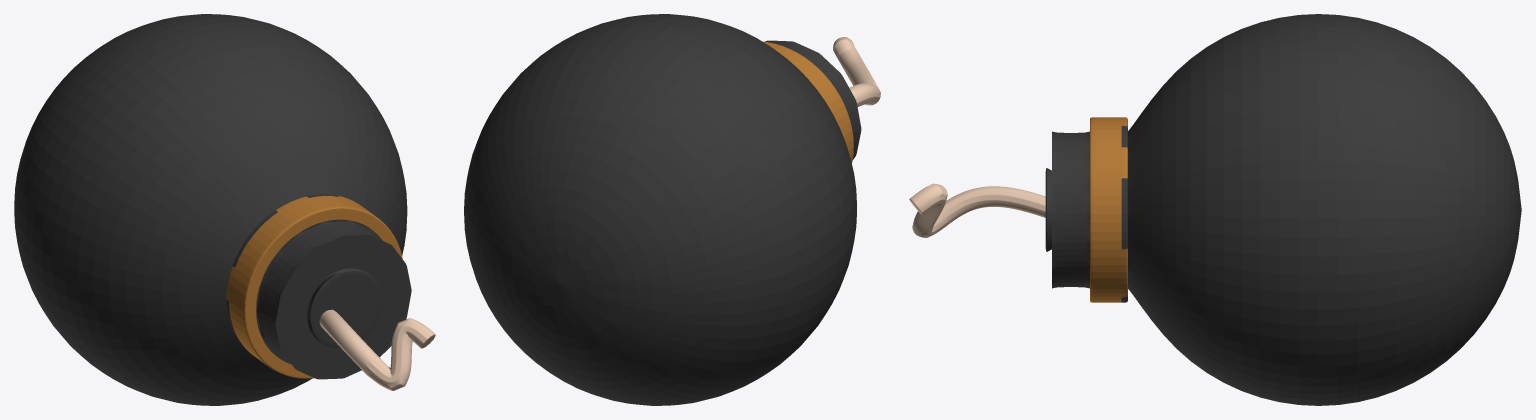
Rendered from bomb.fbx.
3 views of the same model, side by side, from view 1: azimuth 30°, elevation 25°; view 2: azimuth 150°, elevation 25°; view 3: azimuth 270°, elevation 25° (orthographic).
Parts seen in each view (by area): view 1: Sphere; view 2: Sphere; view 3: Sphere.
Part boxes in pixels (x1,y1,x2,y2): Sphere: [14, 14, 435, 405]; Sphere: [464, 14, 880, 405]; Sphere: [909, 14, 1521, 405].
Size of the model in its own units: 190 by 190 by 297.
